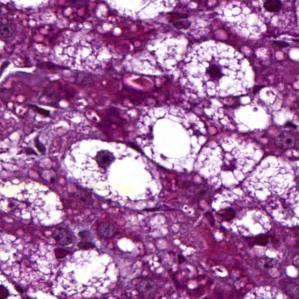ballooning: (59, 136, 166, 215), (134, 103, 210, 176), (179, 38, 258, 99), (190, 131, 267, 193)
